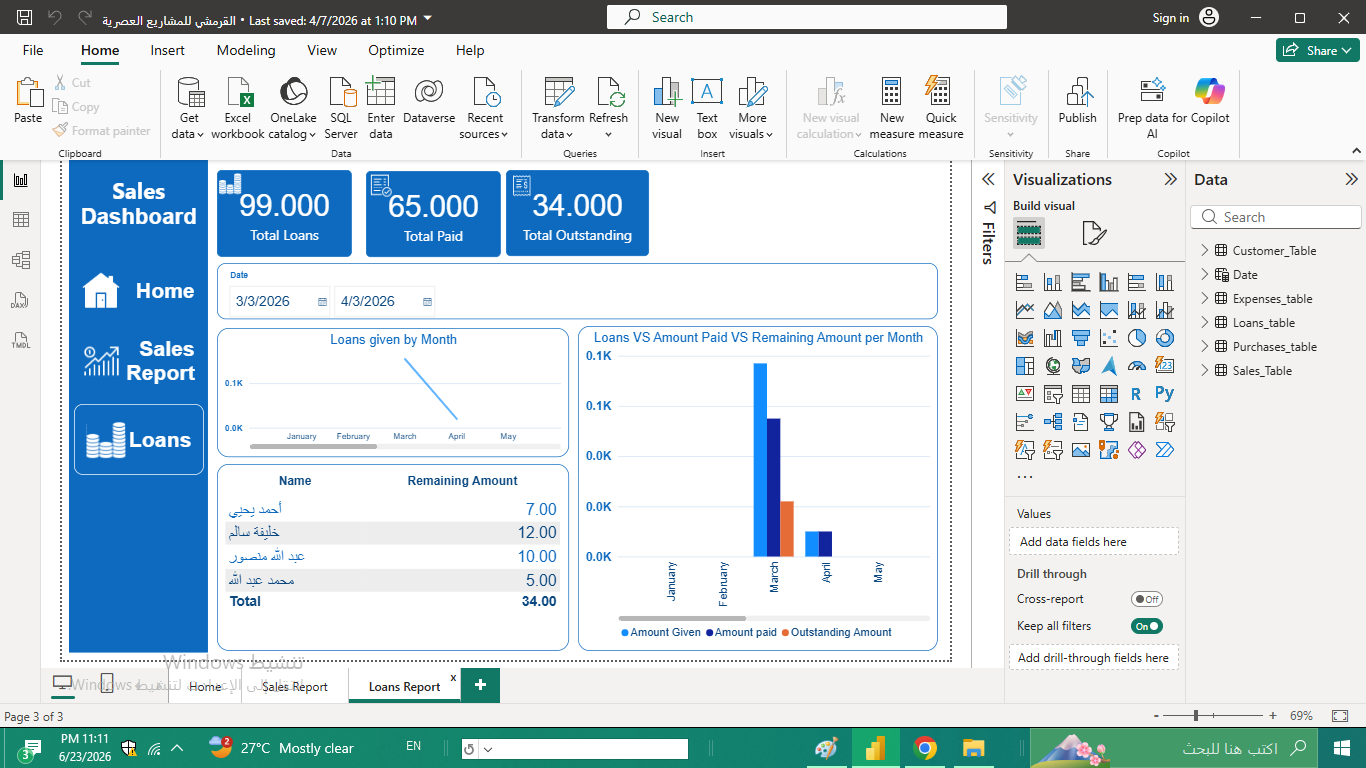

This screenshot's page, from the dashboard's own definition file:
{"tool":"powerbi","page":{"name":"Loans Report","canvas":[1280,720],"ordinal":2},"visuals":[{"type":"shape","box":[10.8,0,200,709.2],"z":0},{"type":"textbox","box":[15.4,15.4,189.2,101.5],"z":1000},{"type":"actionButton","box":[15.8,148.3,188.6,80.6],"z":2000},{"type":"actionButton","box":[15.8,239,188.6,99.4],"z":3000},{"type":"actionButton","box":[17.3,351.4,187.2,102.2],"z":4000},{"type":"card","fields":{"Values":["Loans_table.Total_Loans"]},"box":[223.2,14.4,194.4,125.3],"z":5000},{"type":"card","fields":{"Values":["Loans_table.Total_PaidL"]},"box":[437.8,15.8,194.4,123.8],"z":6000},{"type":"card","fields":{"Values":["Loans_table.Total_RemainigL"]},"box":[639.4,14.4,205.9,123.8],"z":7000},{"type":"slicer","fields":{"Values":["Date.Date"]},"box":[223.2,148.3,1038.2,80.6],"z":8000},{"type":"lineChart","title":"Loans given by Month","fields":{"Category":["Date.Date.Variation.Date Hierarchy.Month"],"Y":["Sum(Loans_table.Amount_given)"]},"box":[223.2,241.9,506.9,185.8],"z":9000},{"type":"clusteredColumnChart","title":"Loans VS Amount Paid VS Remaining Amount per Month","fields":{"Category":["Date.Date.Variation.Date Hierarchy.Month"],"Y":["Sum(Loans_table.Amount_given)","Sum(Loans_table.Amount_paid)","Sum(Loans_table.Remaining_Amount)"]},"box":[743,239,518.4,468],"z":10000},{"type":"tableEx","fields":{"Values":["Loans_table.Person_name","Sum(Loans_table.Remaining_Amount)"]},"box":[223.2,437.8,506.9,269.3],"z":11000},{"type":"image","box":[226.2,13.8,32.3,38.5],"z":12000},{"type":"image","box":[427.7,18.5,60,33.8],"z":13000},{"type":"image","box":[632.3,18.5,60,36.9],"z":14000}]}

Visuals, with their boxes on the page's 1280x720 design canvas (x1, y1, x2, y2). These are canvas units, not pixel positions in the 1366x768 screenshot, which may show the page scaled, cropped or inside an application window:
shape: bbox=[11, 0, 211, 709]
textbox: bbox=[15, 15, 205, 117]
actionButton: bbox=[16, 148, 204, 229]
actionButton: bbox=[16, 239, 204, 338]
actionButton: bbox=[17, 351, 204, 454]
card - Loans_table.Total_Loans: bbox=[223, 14, 418, 140]
card - Loans_table.Total_PaidL: bbox=[438, 16, 632, 140]
card - Loans_table.Total_RemainigL: bbox=[639, 14, 845, 138]
slicer - Date.Date: bbox=[223, 148, 1261, 229]
"Loans given by Month" lineChart: bbox=[223, 242, 730, 428]
"Loans VS Amount Paid VS Remaining Amount per Month" clusteredColumnChart: bbox=[743, 239, 1261, 707]
tableEx - Loans_table.Person_name x Sum(Loans_table.Remaining_Amount): bbox=[223, 438, 730, 707]
image: bbox=[226, 14, 258, 52]
image: bbox=[428, 18, 488, 52]
image: bbox=[632, 18, 692, 55]
